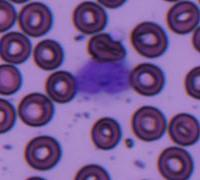M: (74, 58, 130, 100)
